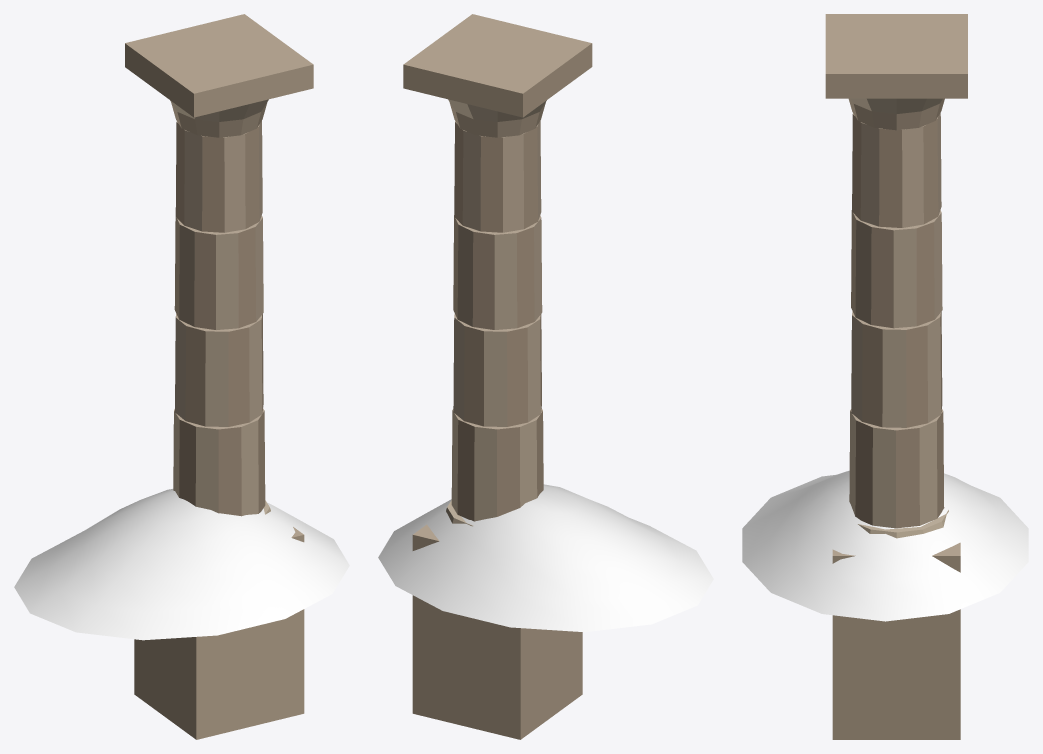
The model's file is ruinas_columna_a.glb.
The picture shows the model from 3 angles, left to right: view 1: azimuth 30°, elevation 25°; view 2: azimuth 150°, elevation 25°; view 3: azimuth 270°, elevation 25°; orthographic projection. The views are drawn at different scales.
Visible parts, largest first — view 1: ruinas_columna_a, ruinas_columna_a_arena; view 2: ruinas_columna_a, ruinas_columna_a_arena; view 3: ruinas_columna_a, ruinas_columna_a_arena.
Part boxes in pixels (<box>): ruinas_columna_a: <box>125,14,313,739</box>; ruinas_columna_a_arena: <box>14,489,349,640</box>; ruinas_columna_a: <box>403,14,592,739</box>; ruinas_columna_a_arena: <box>378,484,713,632</box>; ruinas_columna_a: <box>825,14,967,739</box>; ruinas_columna_a_arena: <box>742,470,1028,621</box>.
Size of the model in its own units: 3.2 by 6.54 by 2.53.
